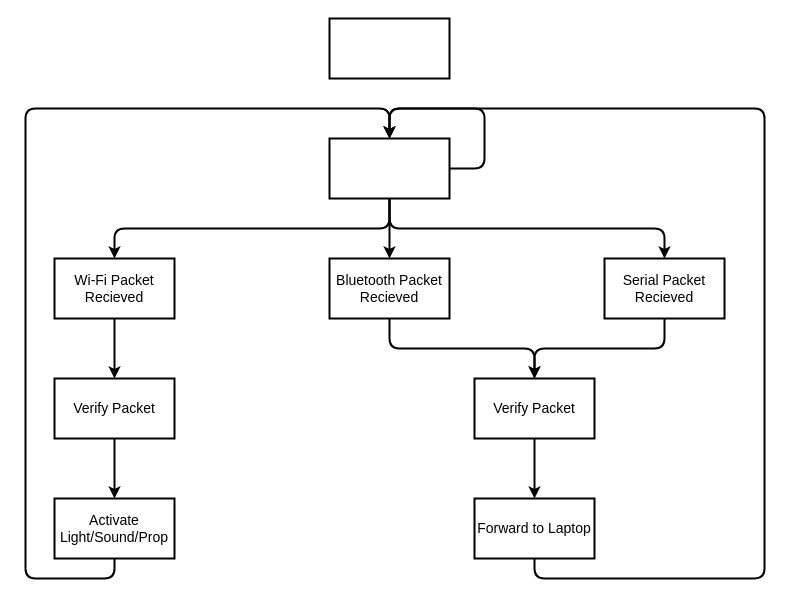
The diagram is 790 pixels wide and 604 high, and some of its shapes have lost their labels. The centre of each missing label's shape, as x and y in pixels:
"ESP32" goes at point (389, 48).
"Idle" goes at point (389, 168).
